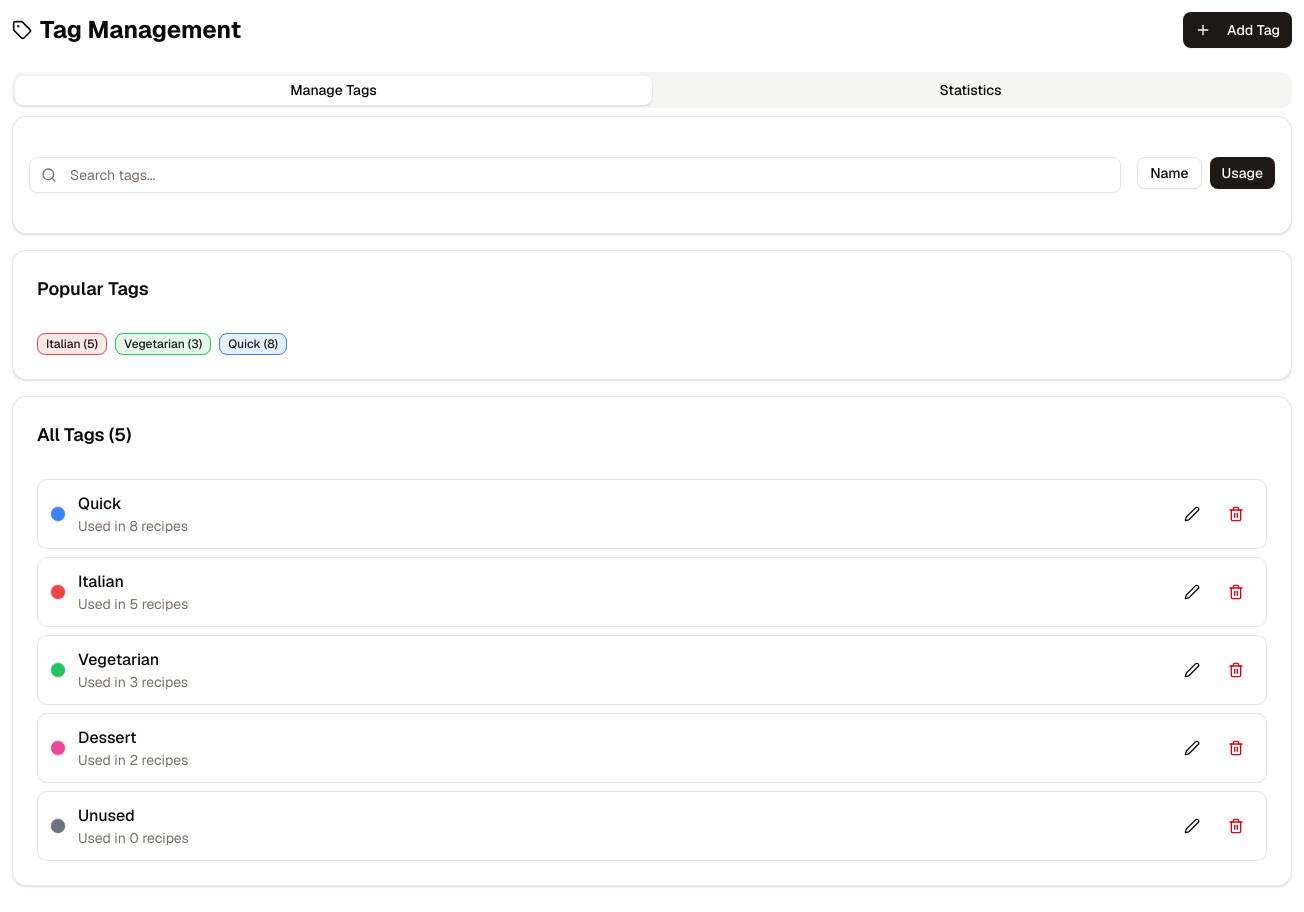
Scenario: TagManagement › search functionality › should filter tags based on search query
The image size is (1304, 912).
Type "ital" into the field with placeholder "Search tags..." at coordinates (575, 175), box left=29, top=157, right=1121, bottom=193
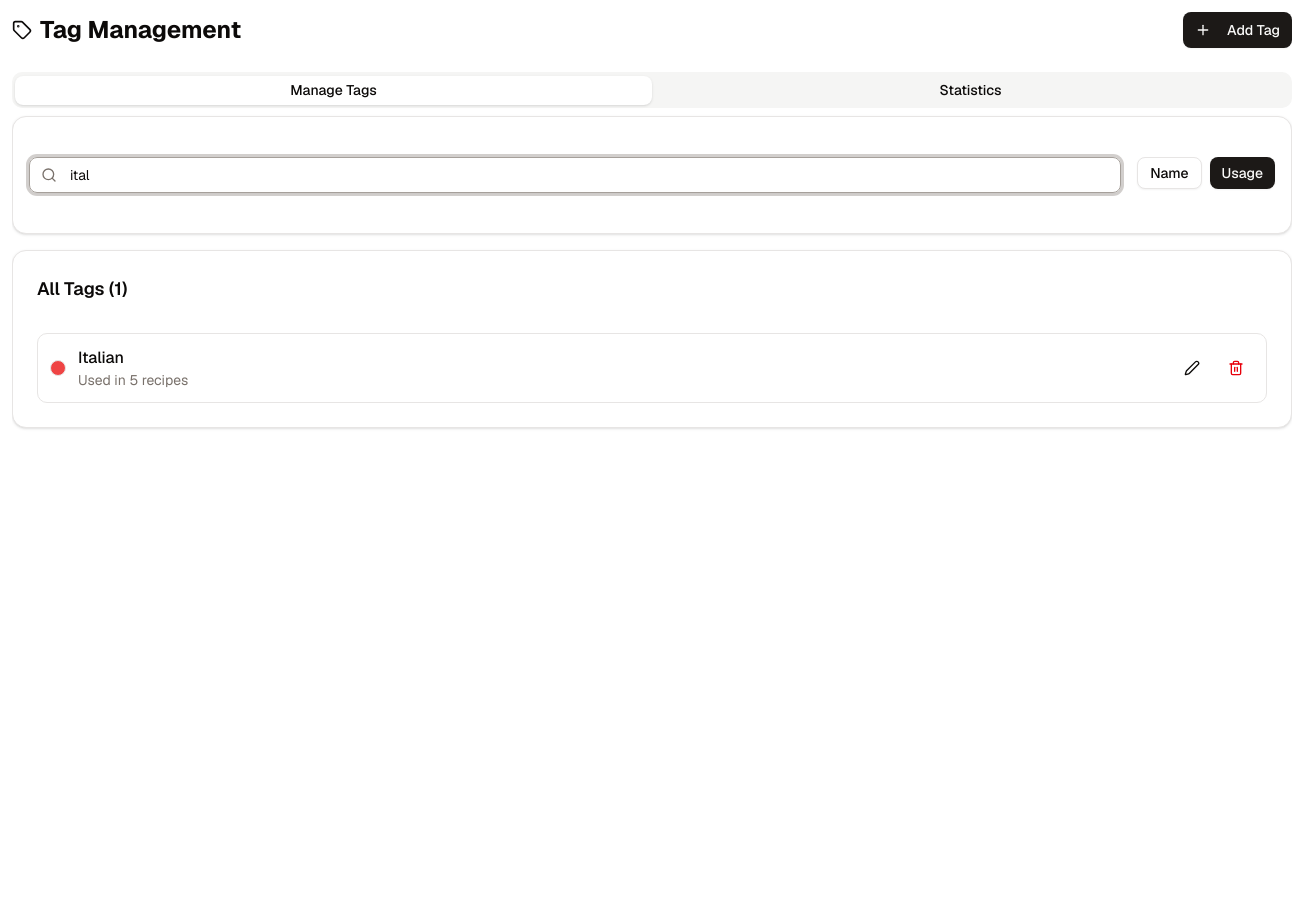
Check: the text "Italian" is shown, box left=78, top=347, right=124, bottom=368
Check: the text "Quick" is gone
Check: the text "Vegetarian" is gone
